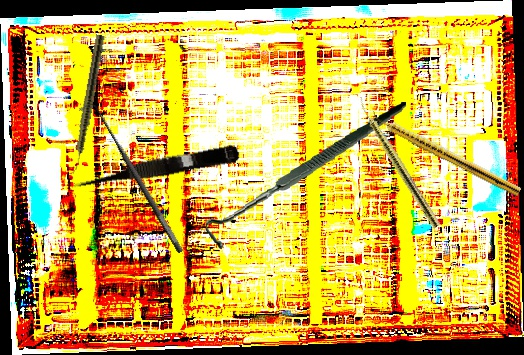Handpiece: (367, 108, 524, 198), (353, 95, 443, 230), (69, 34, 106, 175)
Hook Surgical: (196, 102, 418, 250), (78, 96, 186, 261)
Micro Scissor: (68, 140, 242, 195)
